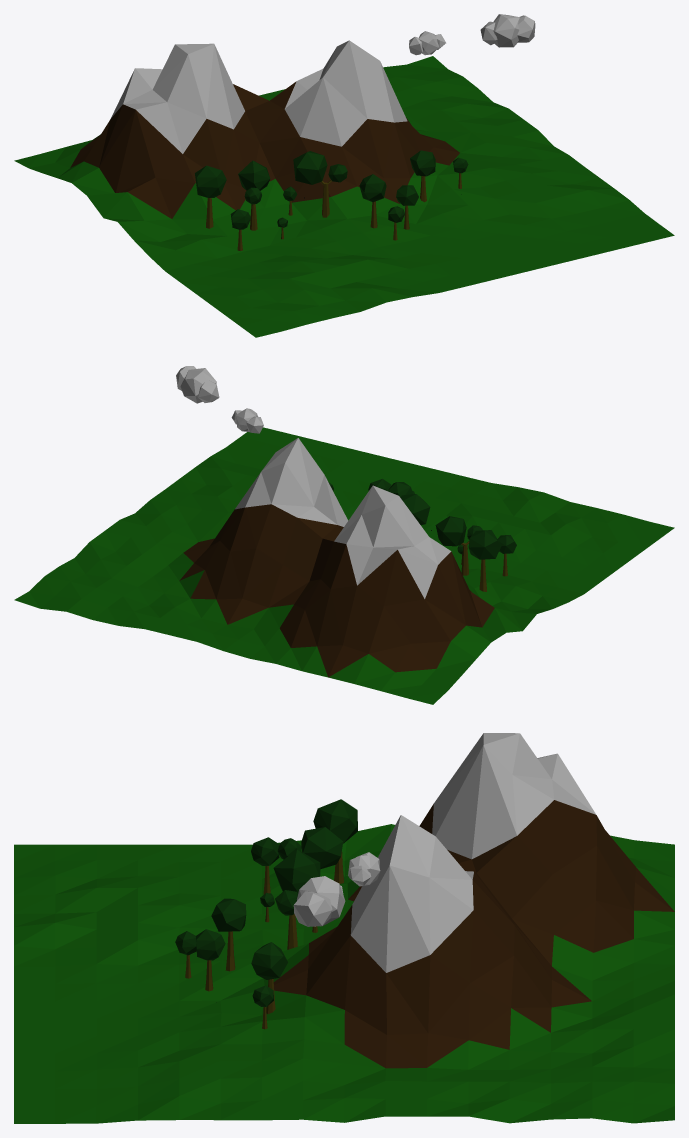
File: mountainTest.obj
3 renders of one model, top to bottom at view 1: azimuth 30°, elevation 25°; view 2: azimuth 150°, elevation 25°; view 3: azimuth 270°, elevation 25°, orthographic. The views are drawn at different scales.
Parts seen in each view (by area): view 1: Plane, Plane.003, Plane.004, Plane.001, Plane.002, Icosphere.001_Icosphere.004, Cylinder.010_Cylinder.012, Cylinder.006_Cylinder.008, Cylinder.001_Cylinder.002, Cylinder.005_Cylinder.007, Cylinder.007_Cylinder.009, Icosphere.000_Icosphere.006 (+1 smaller); view 2: Plane, Plane.003, Plane.001, Plane.004, Plane.002, Icosphere.001_Icosphere.004, Cylinder.006_Cylinder.008, Cylinder.001_Cylinder.002, Icosphere.000_Icosphere.006, Cylinder.010_Cylinder.012; view 3: Plane.002, Plane.004, Plane.001, Plane.003, Plane, Icosphere.001_Icosphere.004, Cylinder.010_Cylinder.012, Cylinder.006_Cylinder.008, Cylinder.005_Cylinder.007, Cylinder.001_Cylinder.002, Cylinder.007_Cylinder.009, Cylinder.003_Cylinder.005 (+2 smaller).
Boxes of the visible parts, box(x1,y1,x2,y2) form: Plane: box(14, 44, 360, 337); Plane.003: box(259, 40, 517, 292); Plane.004: box(175, 43, 438, 311); Plane.001: box(383, 56, 674, 254); Plane.002: box(276, 62, 595, 273); Icosphere.001_Icosphere.004: box(480, 14, 535, 47); Cylinder.010_Cylinder.012: box(293, 151, 331, 217); Cylinder.006_Cylinder.008: box(195, 165, 226, 228); Cylinder.001_Cylinder.002: box(238, 160, 270, 230); Cylinder.005_Cylinder.007: box(359, 174, 386, 228); Cylinder.007_Cylinder.009: box(410, 150, 435, 202); Icosphere.000_Icosphere.006: box(409, 31, 445, 55); Plane: box(328, 496, 674, 704); Plane.003: box(171, 438, 490, 658); Plane.001: box(14, 427, 333, 619); Plane.004: box(250, 483, 569, 677); Plane.002: box(93, 445, 412, 635); Icosphere.001_Icosphere.004: box(176, 366, 219, 403); Cylinder.006_Cylinder.008: box(468, 530, 501, 591); Cylinder.001_Cylinder.002: box(435, 516, 469, 575); Icosphere.000_Icosphere.006: box(231, 408, 263, 433); Cylinder.010_Cylinder.012: box(401, 494, 430, 524); Plane.002: box(14, 865, 674, 1071); Plane.004: box(14, 733, 674, 966); Plane.001: box(14, 1058, 674, 1123); Plane.003: box(14, 815, 674, 1018); Plane: box(14, 753, 674, 914); Icosphere.001_Icosphere.004: box(293, 876, 345, 926); Cylinder.010_Cylinder.012: box(273, 849, 320, 949); Cylinder.006_Cylinder.008: box(313, 799, 357, 883); Cylinder.005_Cylinder.007: box(211, 898, 246, 971); Cylinder.001_Cylinder.002: box(301, 827, 343, 869); Cylinder.007_Cylinder.009: box(251, 942, 287, 1013); Cylinder.003_Cylinder.005: box(195, 929, 225, 991).
Size of the model in its own units: 12.16 by 4.21 by 12.15.
